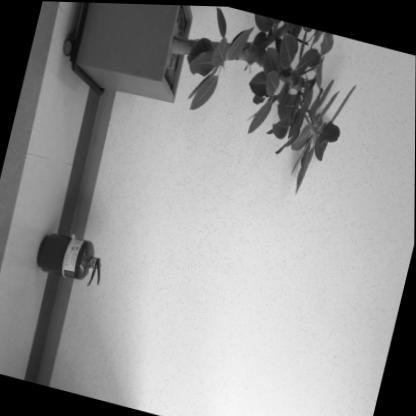FE: (33, 227, 109, 286)
